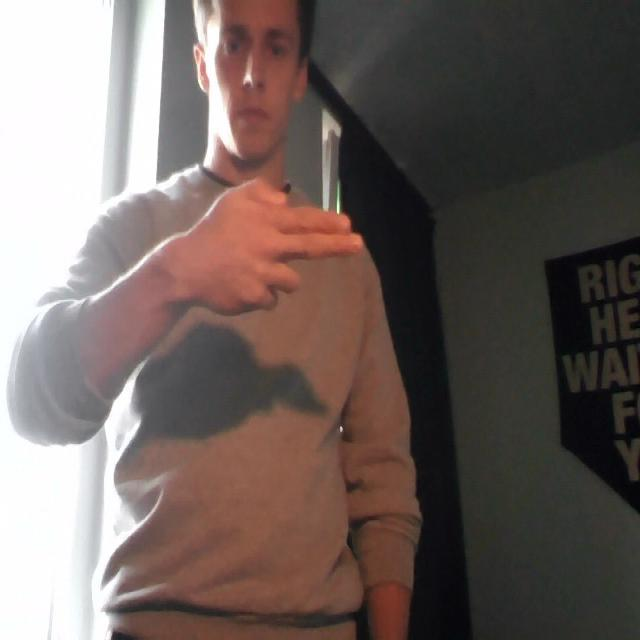right: (167, 168, 378, 321)
